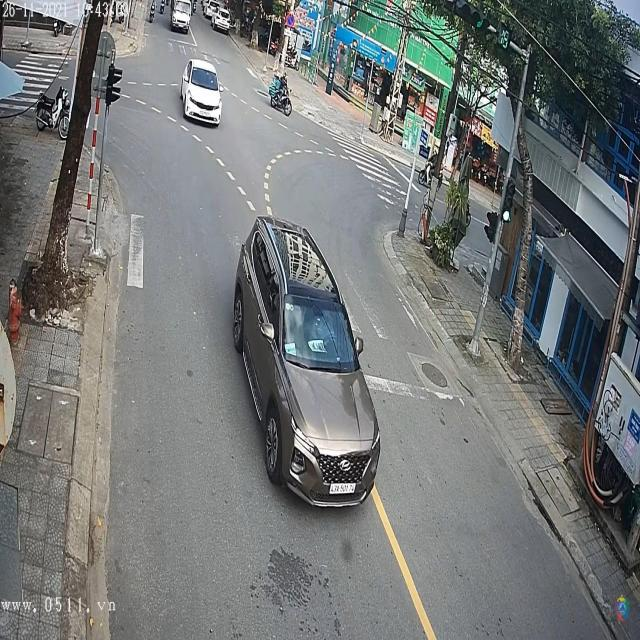bus: (169, 1, 192, 35)
car: (231, 216, 383, 508), (179, 58, 223, 126)
motorcycle: (270, 85, 293, 121)
